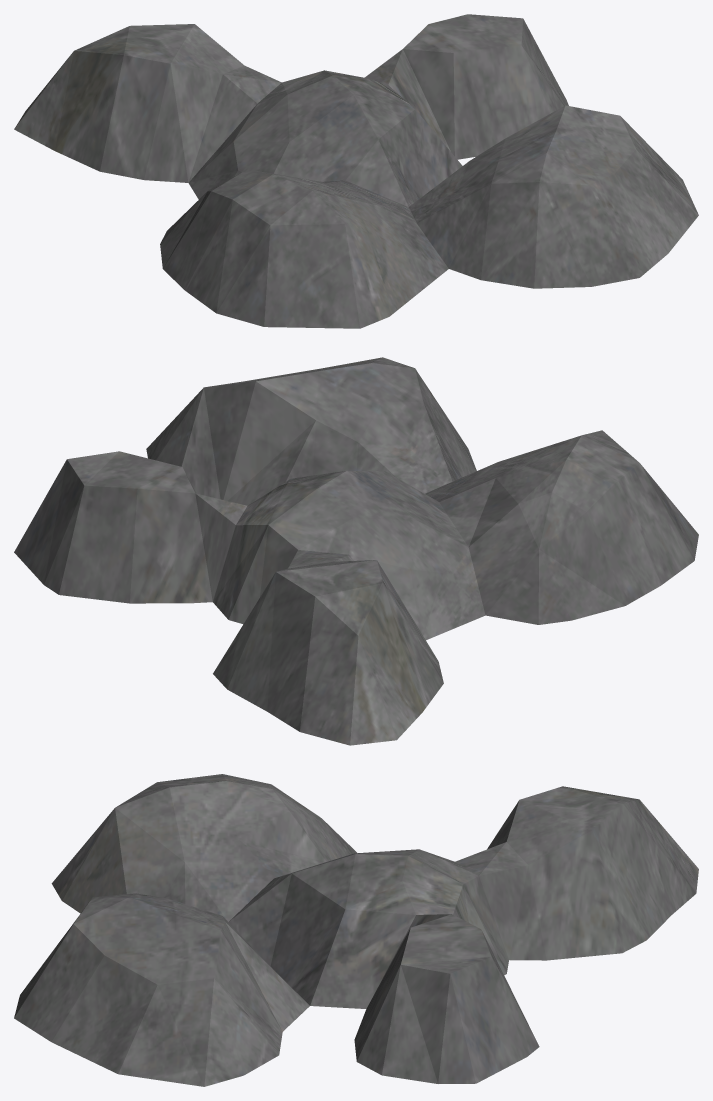
Rendered from Rock07.fbx.
The picture shows the model from 3 angles, top to bottom: view 1: azimuth 30°, elevation 25°; view 2: azimuth 150°, elevation 25°; view 3: azimuth 270°, elevation 25°; orthographic projection. The views are drawn at different scales.
Visible parts, largest first — view 1: SM_ENV_NATURE_Cave_Rock_S_09.mo; view 2: SM_ENV_NATURE_Cave_Rock_S_09.mo; view 3: SM_ENV_NATURE_Cave_Rock_S_09.mo.
Boxes of the visible parts, x1,y1,x2,y2 form: SM_ENV_NATURE_Cave_Rock_S_09.mo: (14,14,698,328); SM_ENV_NATURE_Cave_Rock_S_09.mo: (14,357,698,745); SM_ENV_NATURE_Cave_Rock_S_09.mo: (14,774,698,1086).
Size of the model in its own units: 80.25 by 14.95 by 92.57.
Materials: 1 (1 with a texture image).
